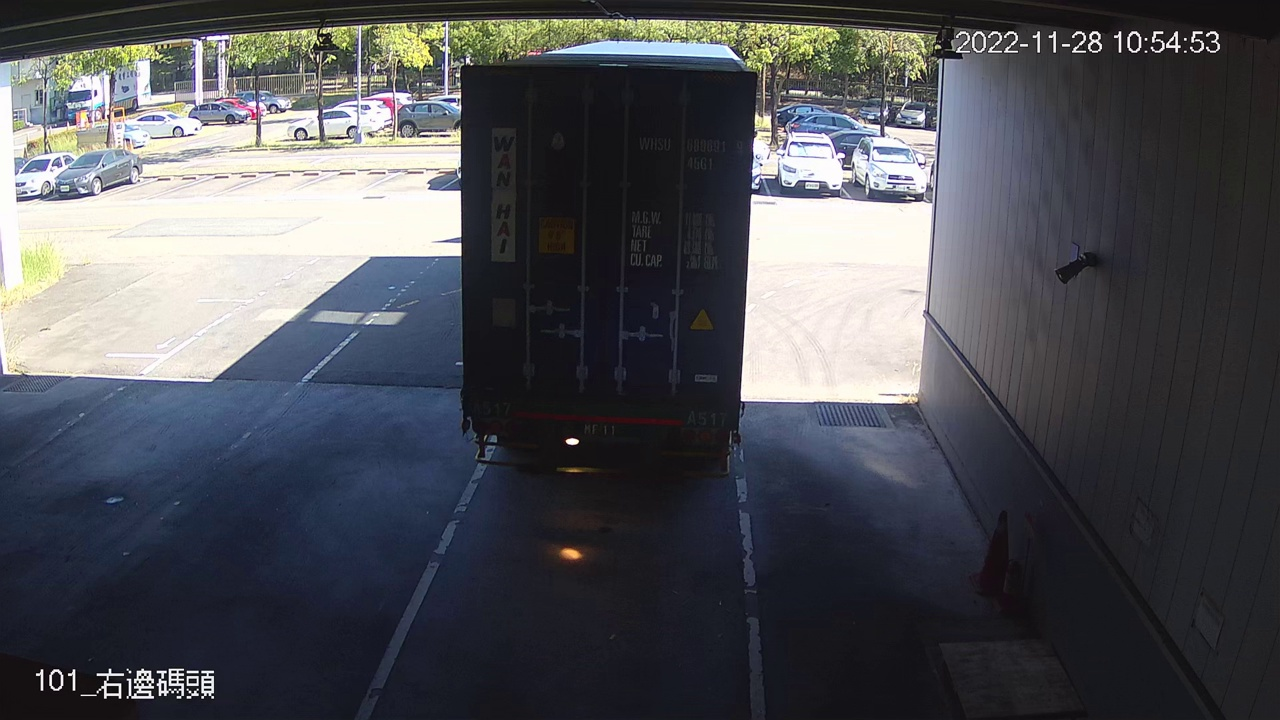container: (634, 128, 748, 175)
